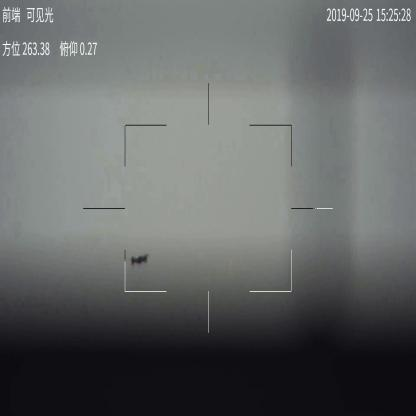uav: (131, 252, 150, 268)
